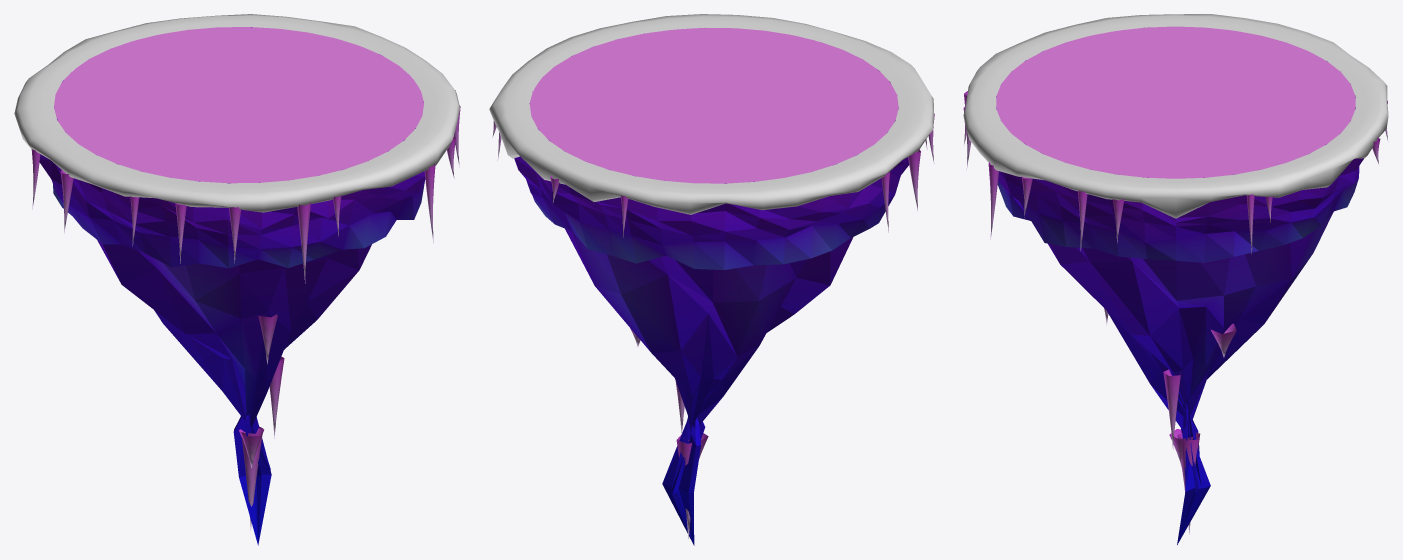
File: Kit_Floe_C.fbx
The picture shows the model from 3 angles, left to right: view 1: azimuth 30°, elevation 25°; view 2: azimuth 150°, elevation 25°; view 3: azimuth 270°, elevation 25°; orthographic projection. The views are drawn at different scales.
Visible parts, largest first — view 1: Floe_C; view 2: Floe_C; view 3: Floe_C.
Part boxes in pixels (box(x1,y1,x2,y2)): Floe_C: box(14, 14, 460, 545); Floe_C: box(489, 14, 934, 545); Floe_C: box(963, 14, 1388, 544).
Size of the model in its own units: 4.98 by 5.59 by 4.95.
